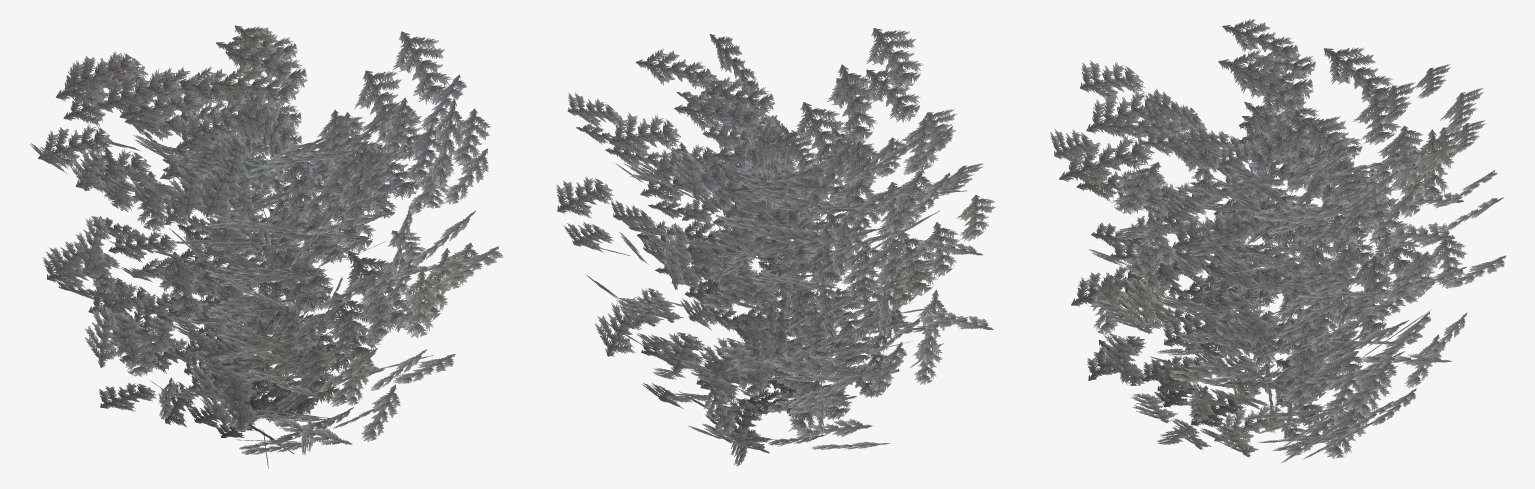
The model's file is pine_l0.gltf.
3 renders of one model, left to right at view 1: azimuth 30°, elevation 25°; view 2: azimuth 150°, elevation 25°; view 3: azimuth 270°, elevation 25°, orthographic. The views are drawn at different scales.
Visible parts, largest first — view 1: pine_l0; view 2: pine_l0; view 3: pine_l0.
Boxes of the visible parts, x1,y1,x2,y2 form: pine_l0: [29, 25, 503, 468]; pine_l0: [556, 28, 995, 466]; pine_l0: [1050, 19, 1506, 463].
Bounding box in the file's own units: 7.44 × 6.47 × 7.24.
1 material, 1 textured.
